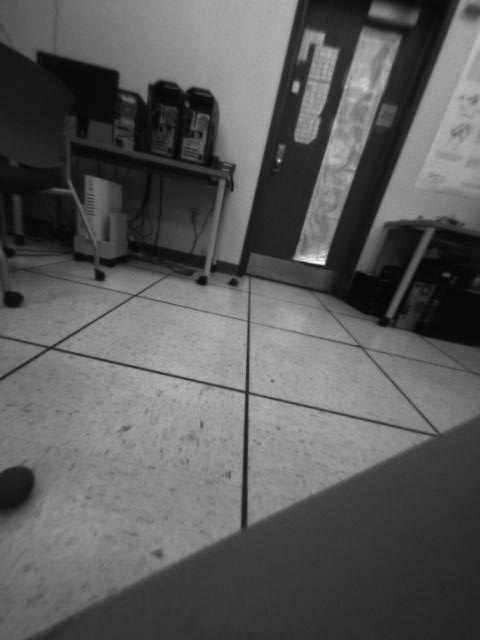dogtoy: (1, 456, 43, 525)
